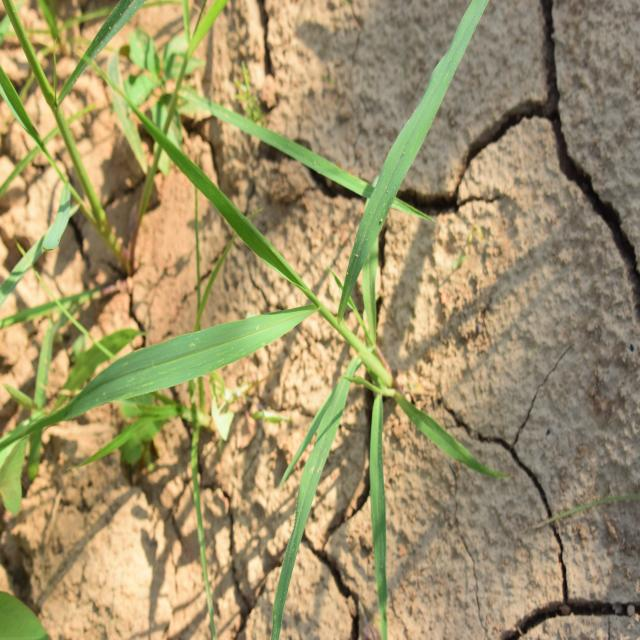green_foxtail: (76, 86, 464, 551)
